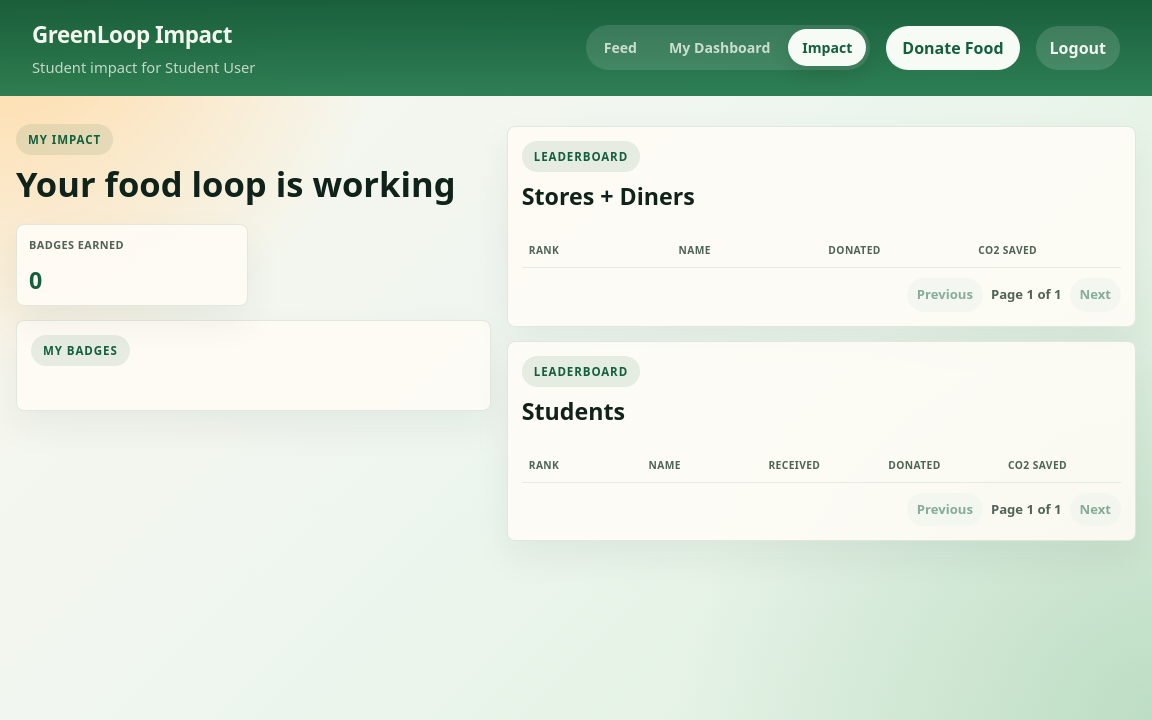
Test: Donate Food modal › opens the donate form on impact without navigating away
The width and height of the screenshot is (1152, 720).
Click the button "Donate Food" at (953, 48), box [886, 26, 1020, 70]
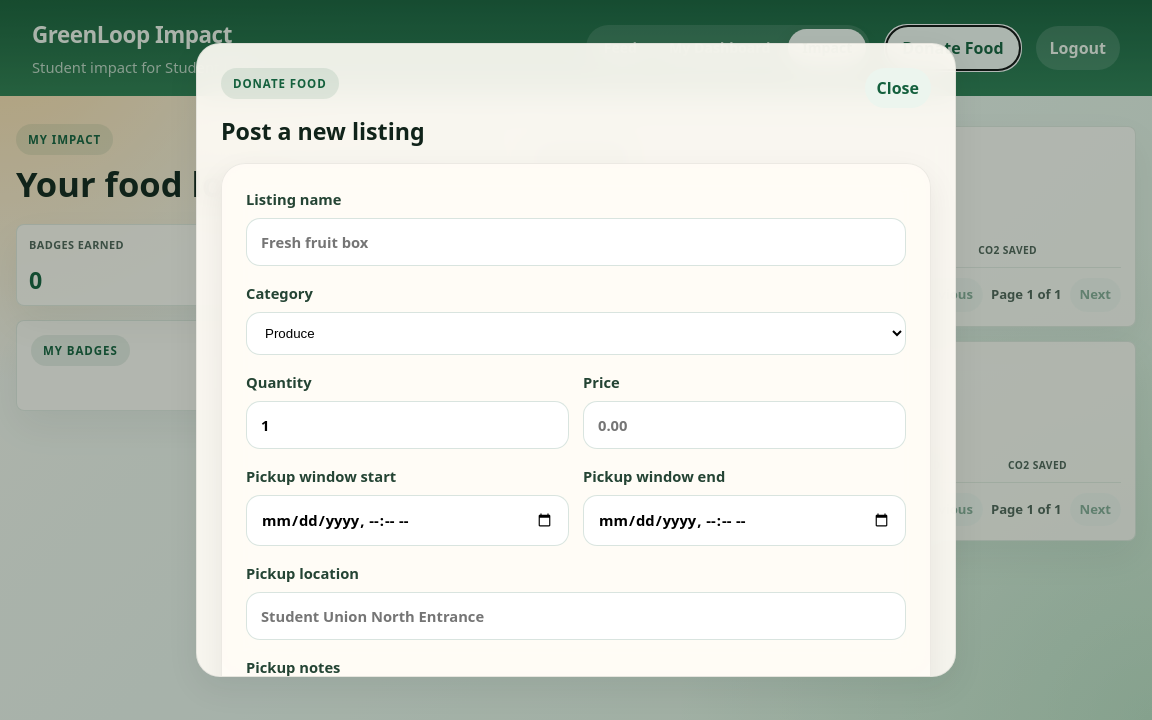
Expected: the heading "GreenLoop Impact" is shown, [32, 18, 255, 52]
Result: the heading "Post a new listing" is shown at [221, 120, 425, 145]
